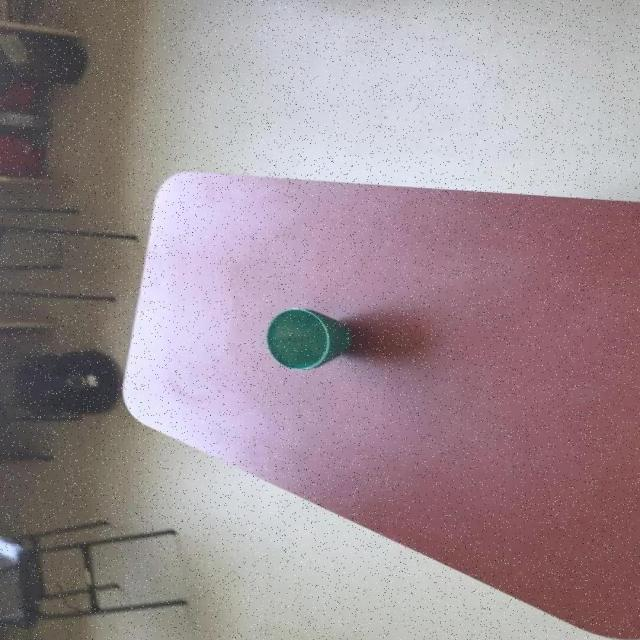Bowl: (21, 350, 122, 416), (268, 306, 354, 371)
